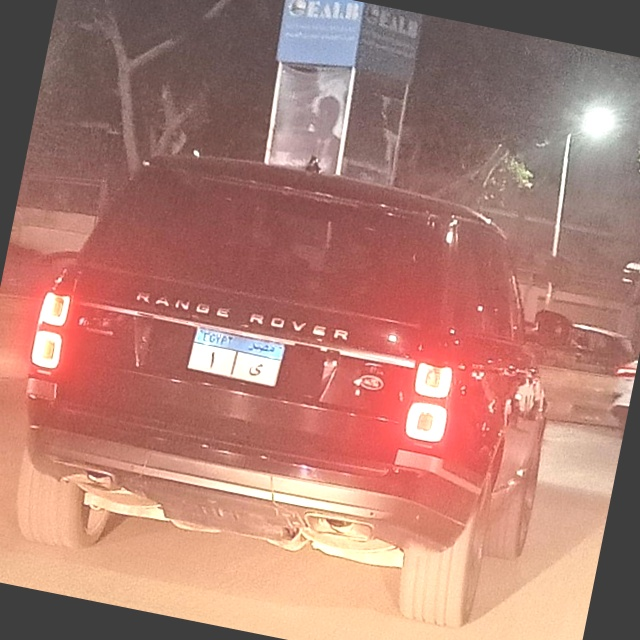License Plate: (186, 326, 288, 388)
